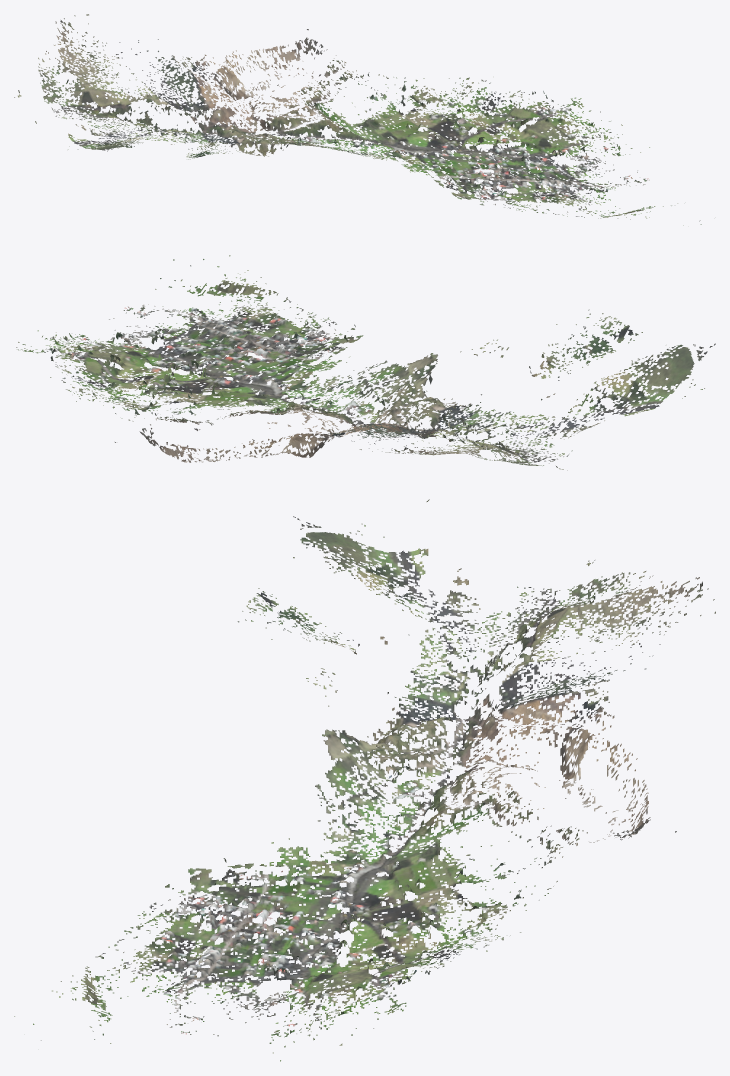
The model's file is superficie-fotogrametrica-parcial.glb.
3 renders of one model, top to bottom at view 1: azimuth 30°, elevation 25°; view 2: azimuth 150°, elevation 25°; view 3: azimuth 270°, elevation 25°, orthographic. The views are drawn at different scales.
Size of the model in its own units: 1258 by 278 by 966.
1 material, 1 textured.
